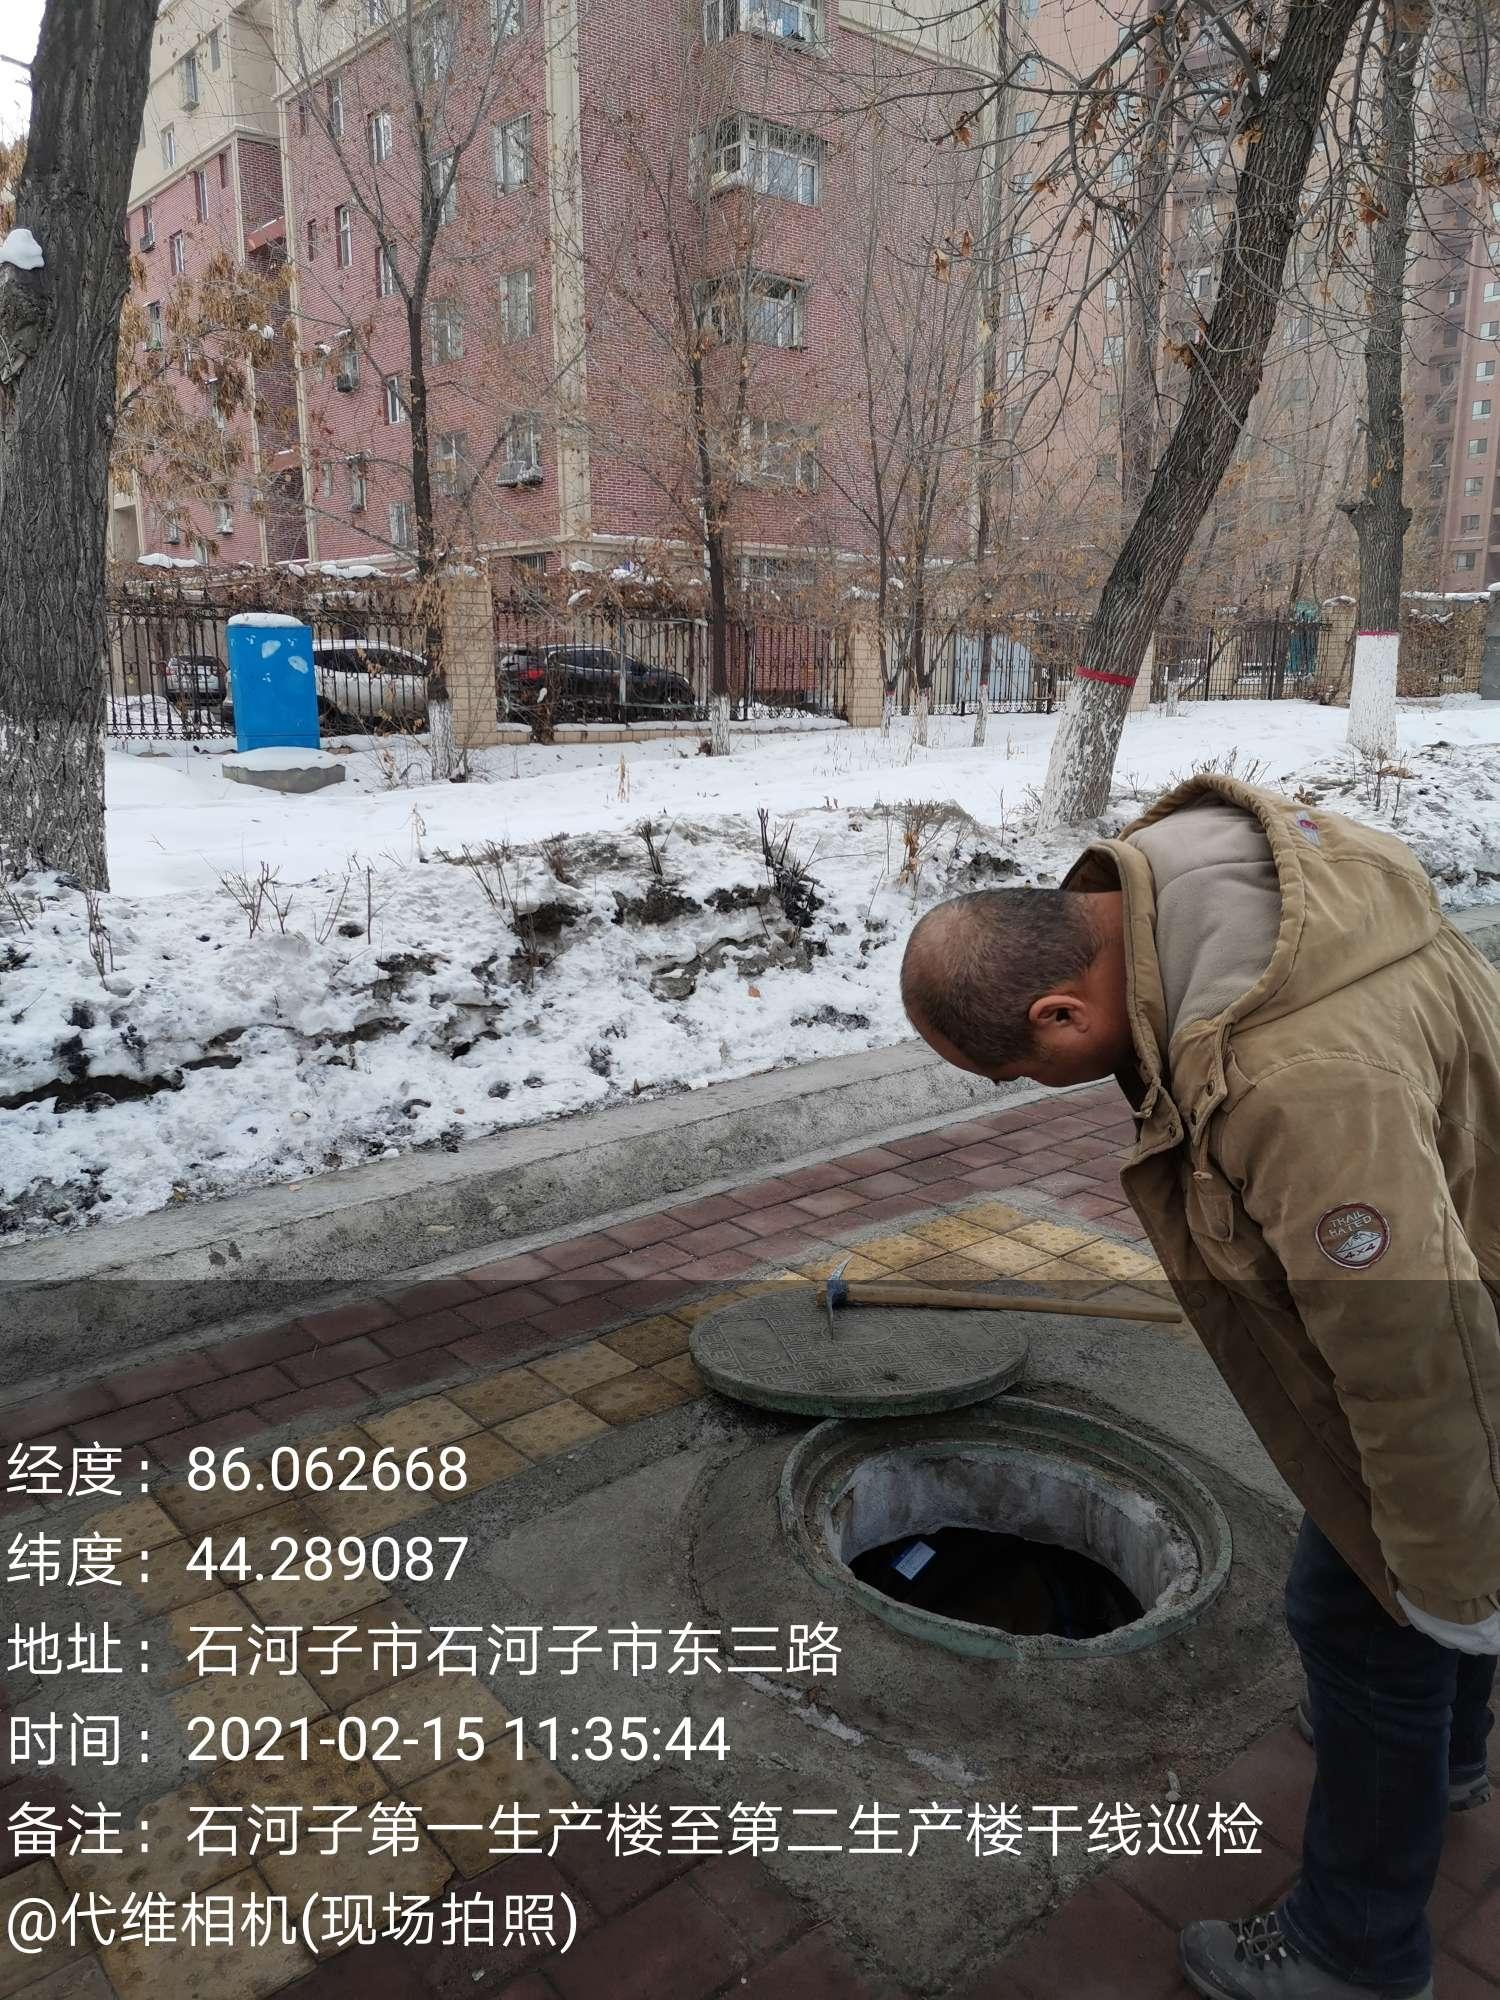wellcover: (668, 1217, 1249, 1693)
